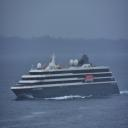cruises: (11, 48, 122, 101)
